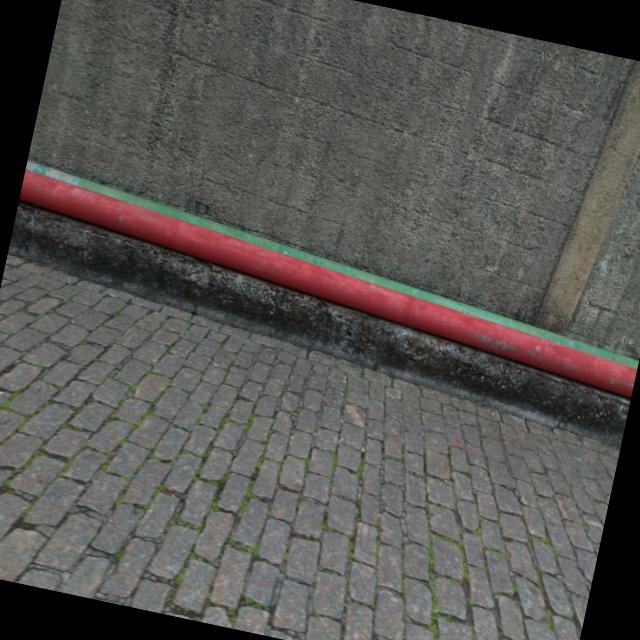gas: (19, 169, 636, 398)
